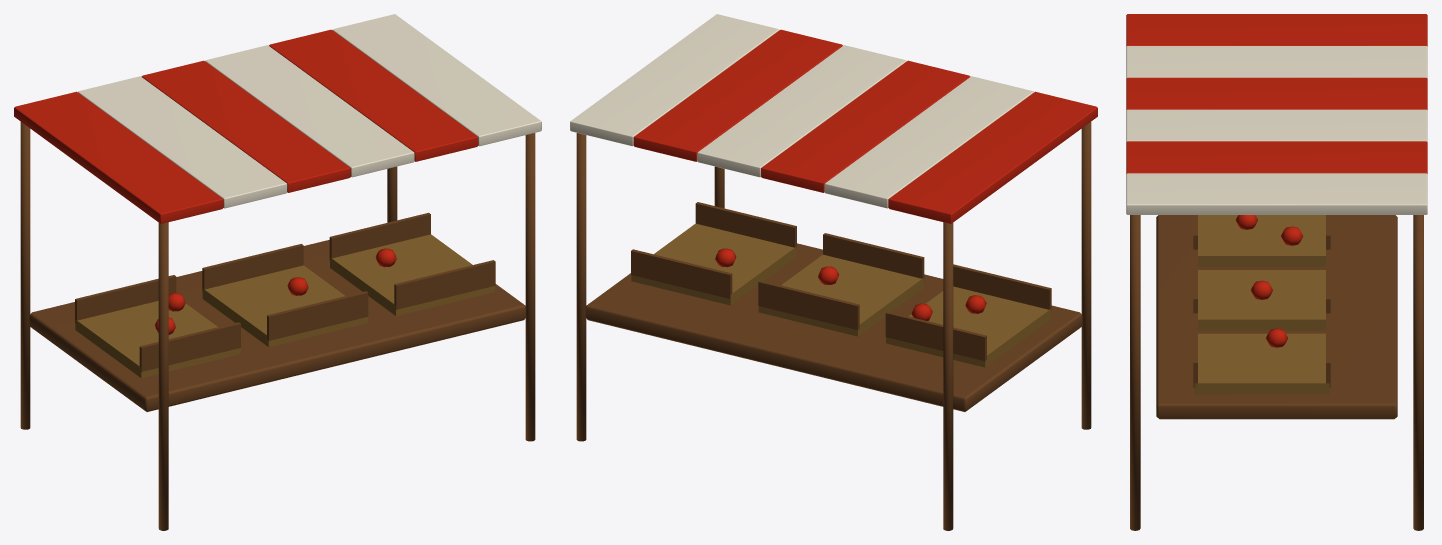
File: market-stall-intact.glb
3 views of the same model, side by side, from view 1: azimuth 30°, elevation 25°; view 2: azimuth 150°, elevation 25°; view 3: azimuth 270°, elevation 25° (orthographic). The views are drawn at different scales.
Parts seen in each view (by area): view 1: market-stall-intact; view 2: market-stall-intact; view 3: market-stall-intact.
Boxes of the visible parts, left/top/right/bottom form: market-stall-intact: left=14, top=14, right=541, bottom=530; market-stall-intact: left=570, top=14, right=1097, bottom=530; market-stall-intact: left=1126, top=14, right=1427, bottom=530.
Bounding box in the file's own units: 3 × 2.4 × 2.
1 material, 1 textured.
